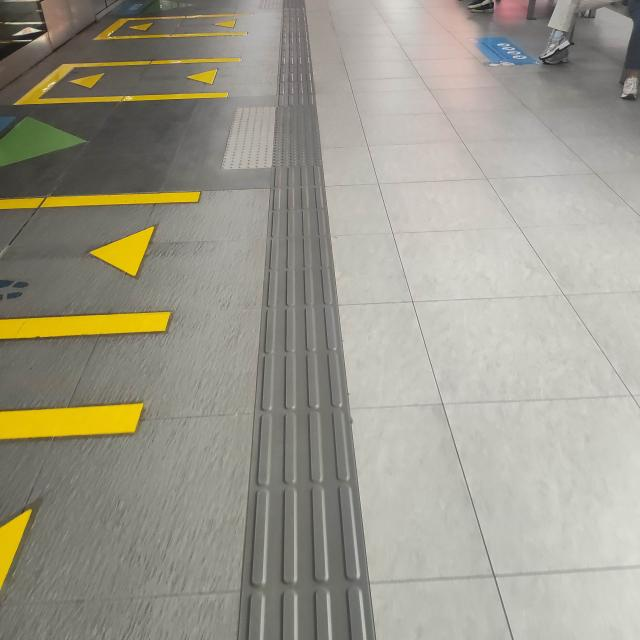lurus: (252, 0, 348, 640)
